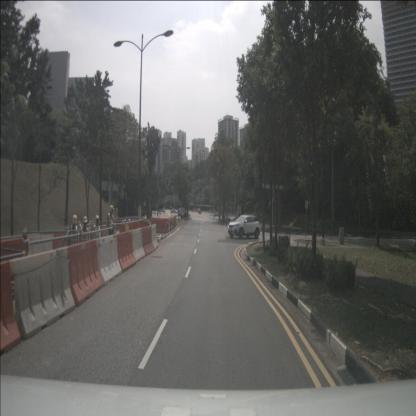movable_object-barrier: (11, 246, 76, 339), (65, 240, 103, 306), (0, 238, 28, 290), (94, 234, 122, 285), (25, 234, 55, 278), (114, 224, 136, 273), (53, 232, 76, 272), (119, 220, 141, 248), (130, 228, 146, 262), (140, 226, 154, 255), (151, 217, 168, 233), (148, 224, 158, 250)
vehicle-car: (228, 214, 260, 241)
